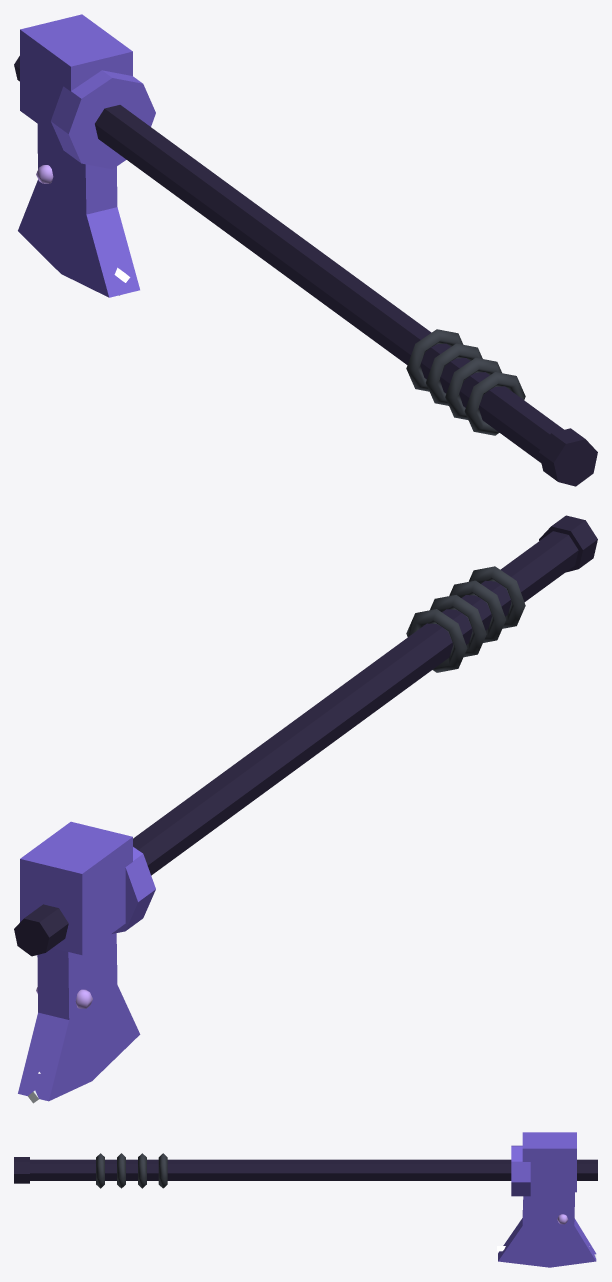
File: Tool_Axe_Starlight.fbx
3 renders of one model, top to bottom at view 1: azimuth 30°, elevation 25°; view 2: azimuth 150°, elevation 25°; view 3: azimuth 270°, elevation 25°, orthographic. The views are drawn at different scales.
Visible parts, largest first — view 1: Tool_Axe_Starlight; view 2: Tool_Axe_Starlight; view 3: Tool_Axe_Starlight.
Boxes of the visible parts, x1=… form: Tool_Axe_Starlight: x1=14, y1=14, x2=597, y2=486; Tool_Axe_Starlight: x1=14, y1=515, x2=597, y2=1103; Tool_Axe_Starlight: x1=14, y1=1132, x2=597, y2=1267.
Size of the model in its own units: 0.0338 by 0.0848 by 0.364.
